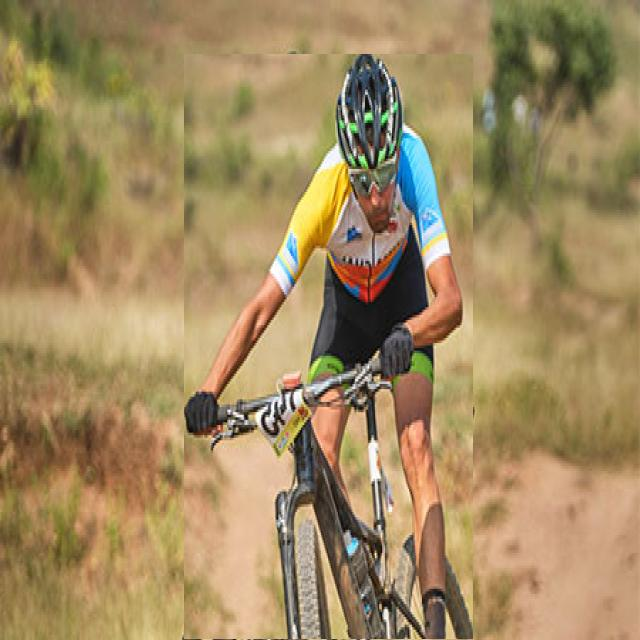bicycle: (185, 54, 473, 639)
